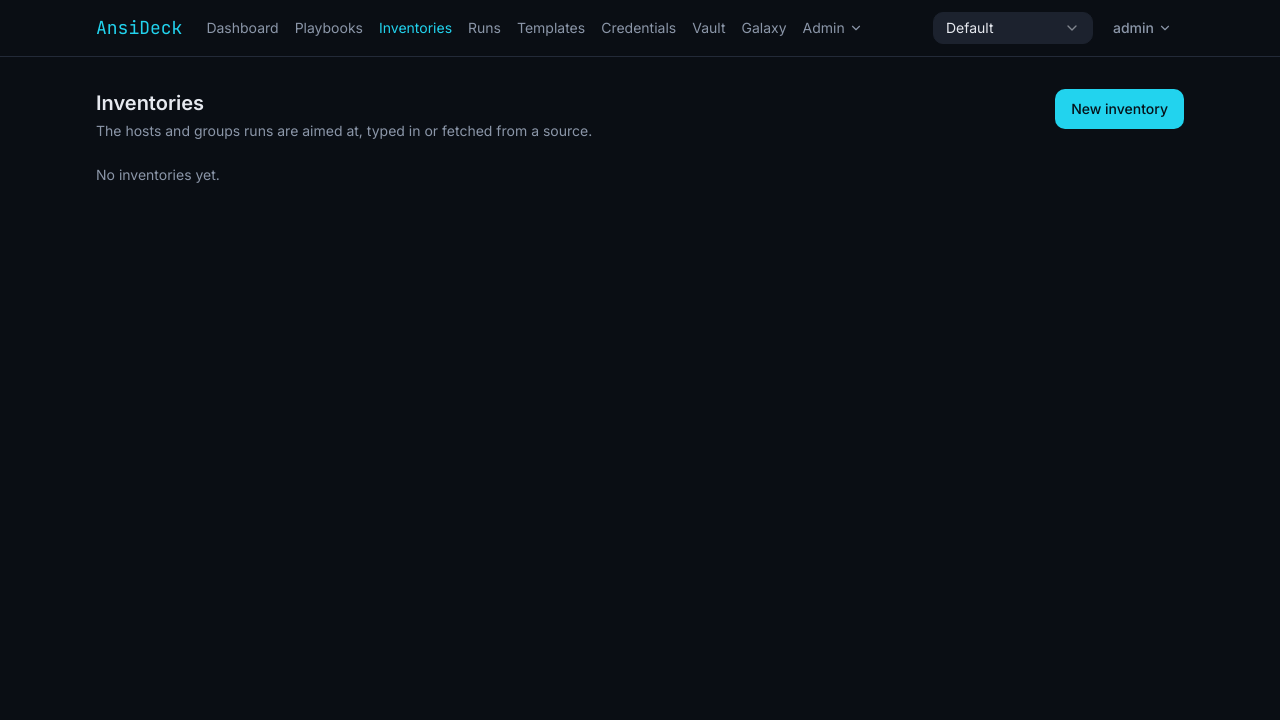
Test: inventories list › shows why a create was refused
Click the button "New inventory" at (1120, 109), box [1055,89,1184,129]
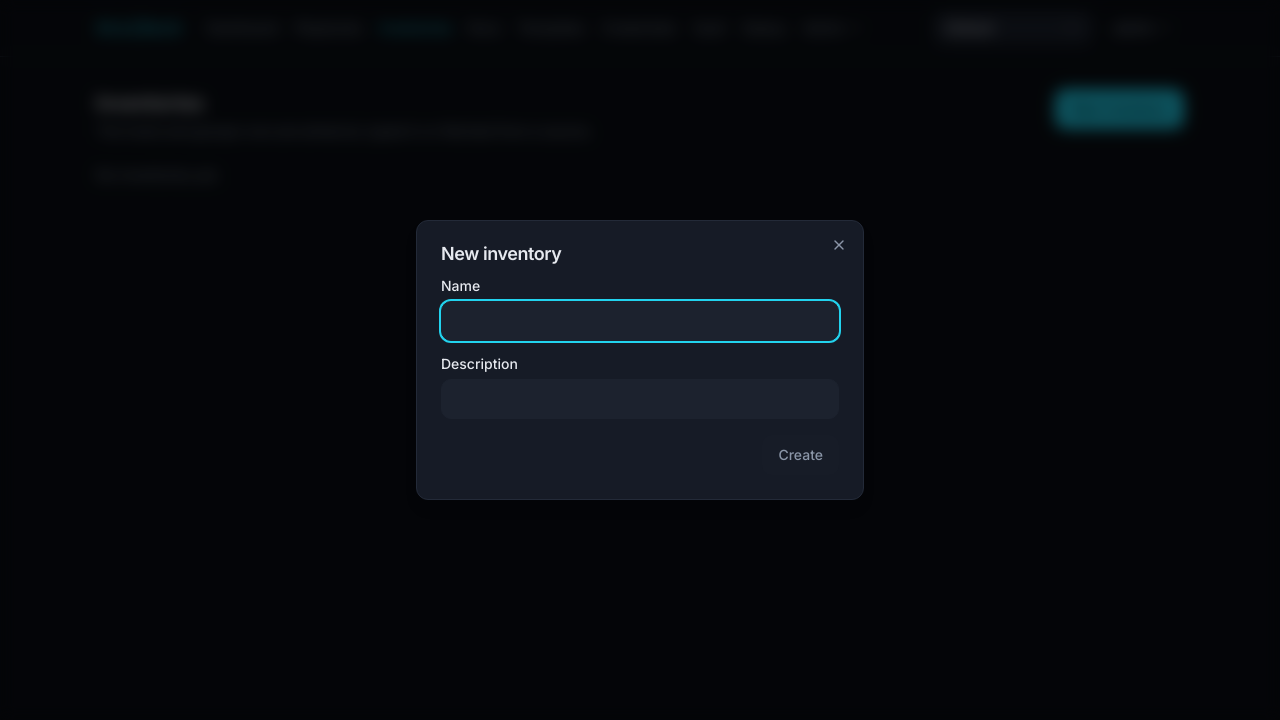
Type "lab" into the field labelled "Name" at (640, 321), box [441,301,839,341]
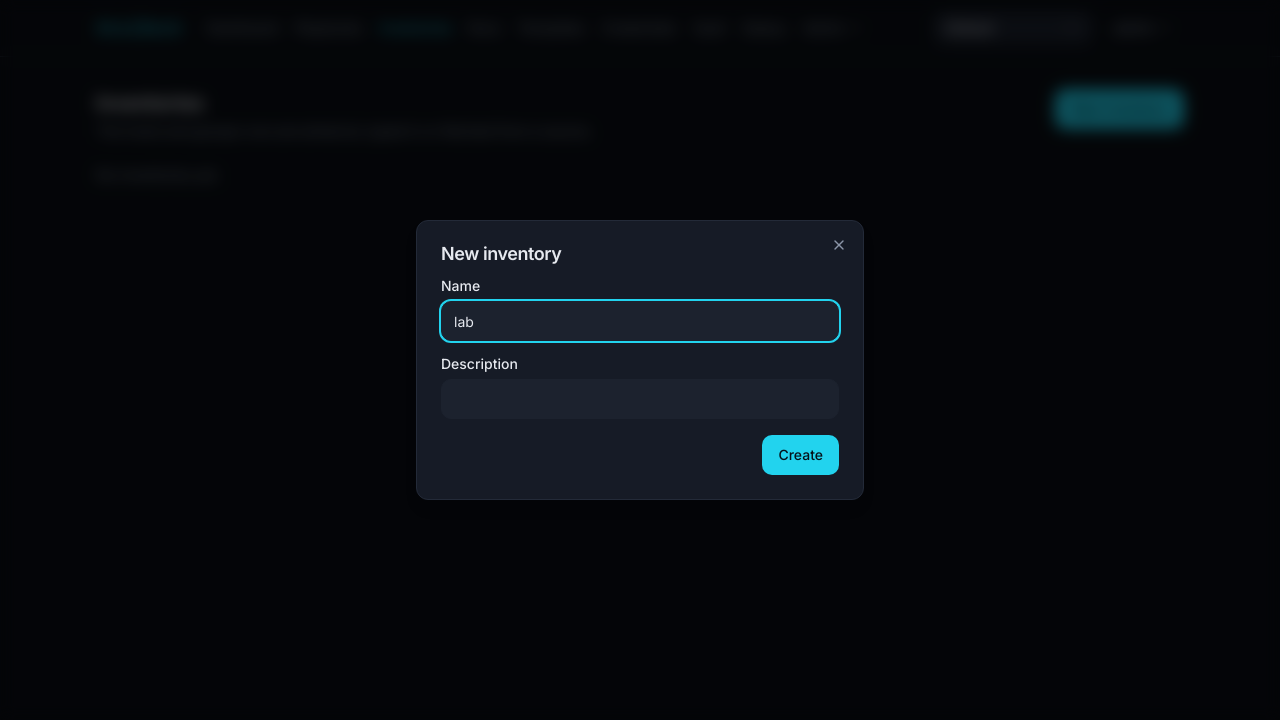
Click the button "Create" at (801, 455), box [762,435,839,475]
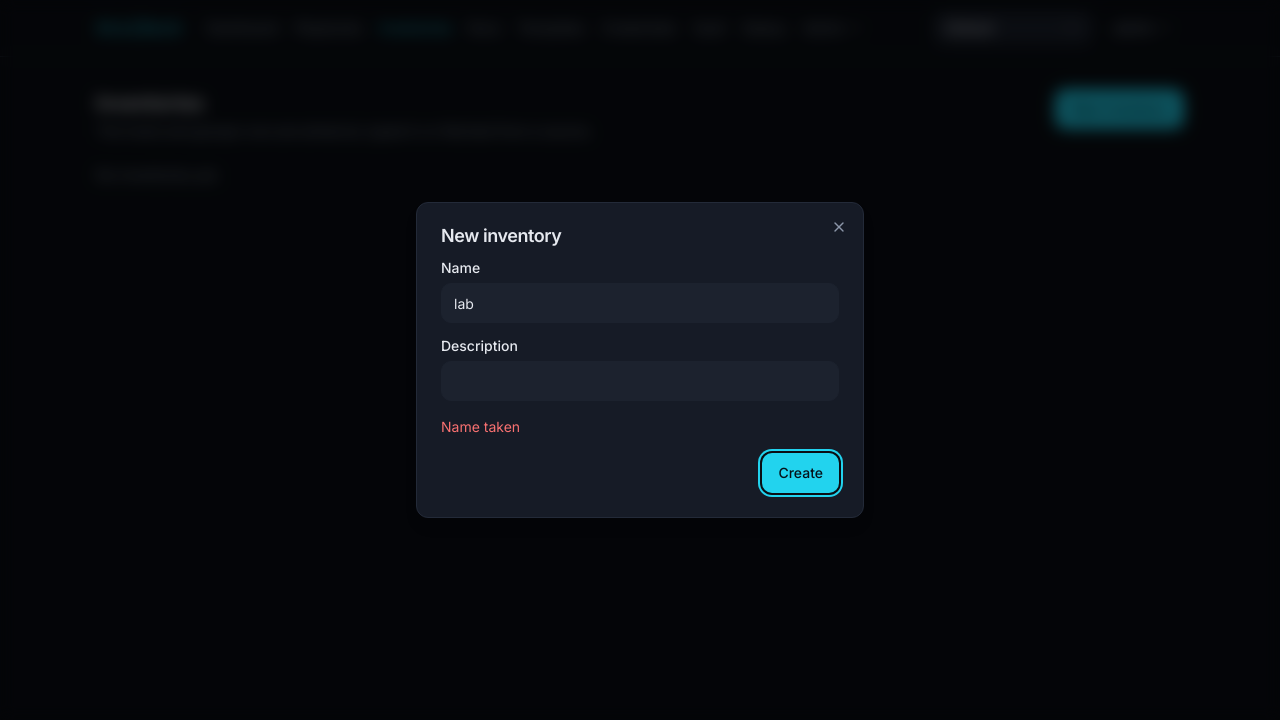
Check: the text "Name taken" is shown, box [441,418,520,435]
